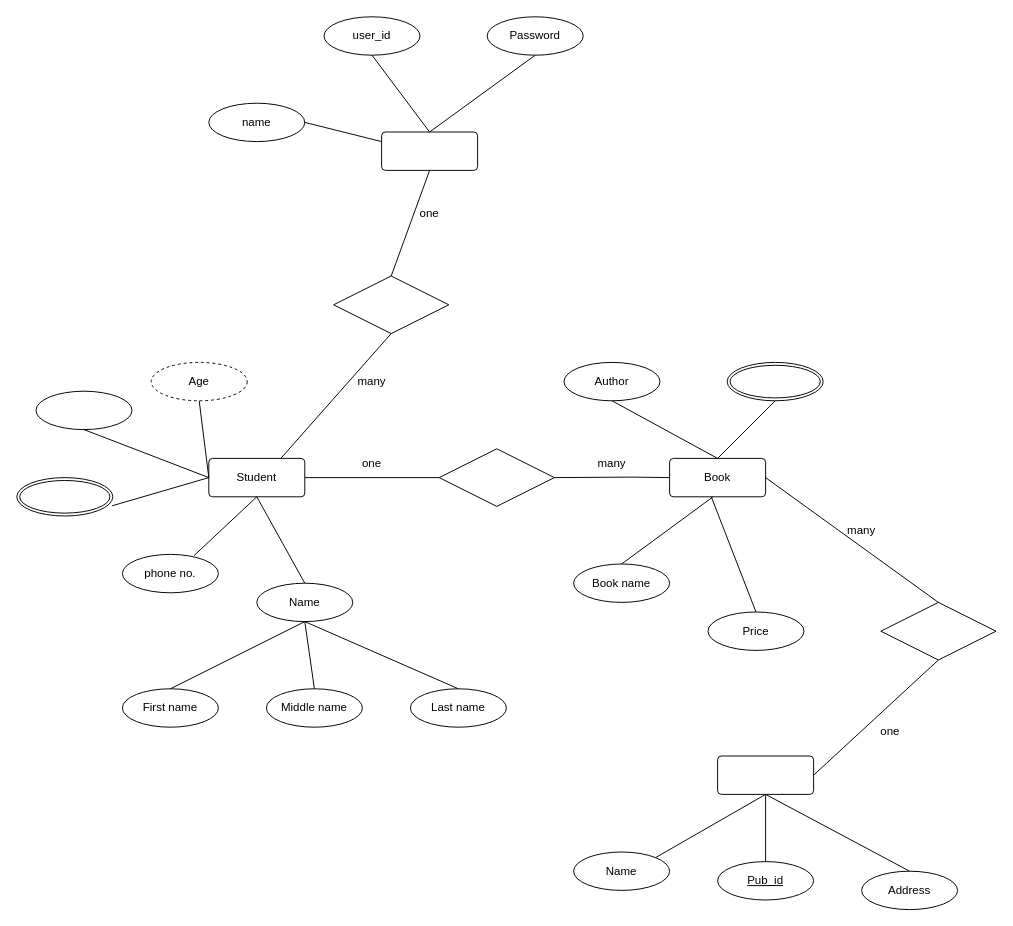
Some shapes in this 1013 by 926 pixel diagram are drawn without their labels. Here are the shapes that lost their labels. From the top down, the box of each, then its label:
(381, 131, 478, 170): Librarian
(333, 275, 449, 334): Manages
(726, 361, 823, 401): Book_id
(35, 390, 132, 430): D.O.B
(16, 477, 113, 516): stu_id
(438, 448, 554, 506): Reads
(880, 601, 996, 660): published by
(717, 755, 814, 794): publisher
